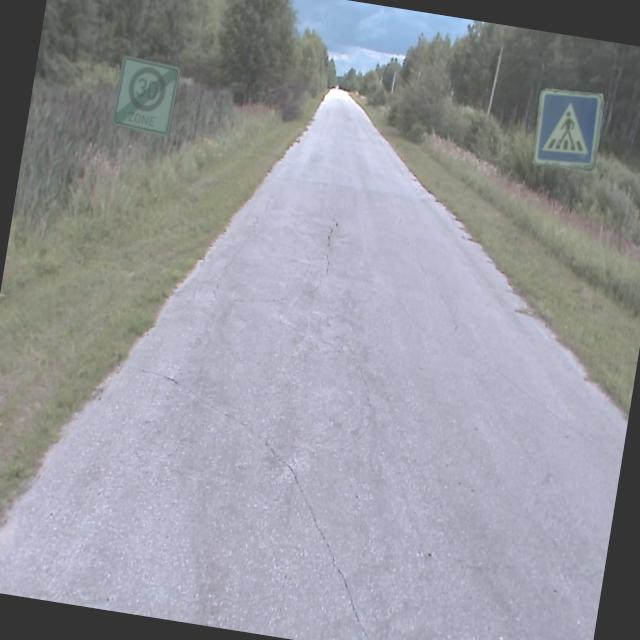road: (0, 87, 627, 640)
